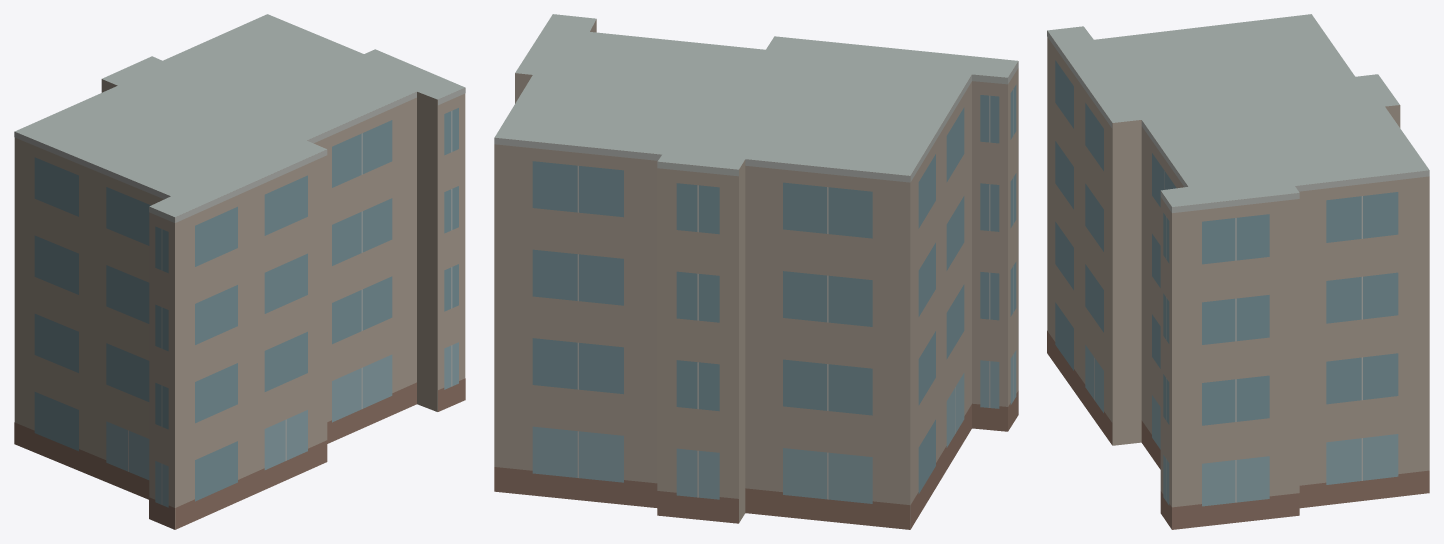
The model's file is survey-upis-32979481.glb.
The picture shows the model from 3 angles, left to right: view 1: azimuth 30°, elevation 25°; view 2: azimuth 150°, elevation 25°; view 3: azimuth 270°, elevation 25°; orthographic projection. The views are drawn at different scales.
Visible parts, largest first — view 1: survey-upis-32979481.tmp; view 2: survey-upis-32979481.tmp; view 3: survey-upis-32979481.tmp.
Boxes of the visible parts, left/top/right/bottom form: survey-upis-32979481.tmp: left=14, top=14, right=465, bottom=529; survey-upis-32979481.tmp: left=494, top=14, right=1018, bottom=529; survey-upis-32979481.tmp: left=1047, top=14, right=1429, bottom=529.
Bounding box in the file's own units: 16.7 × 13 × 13.98.
